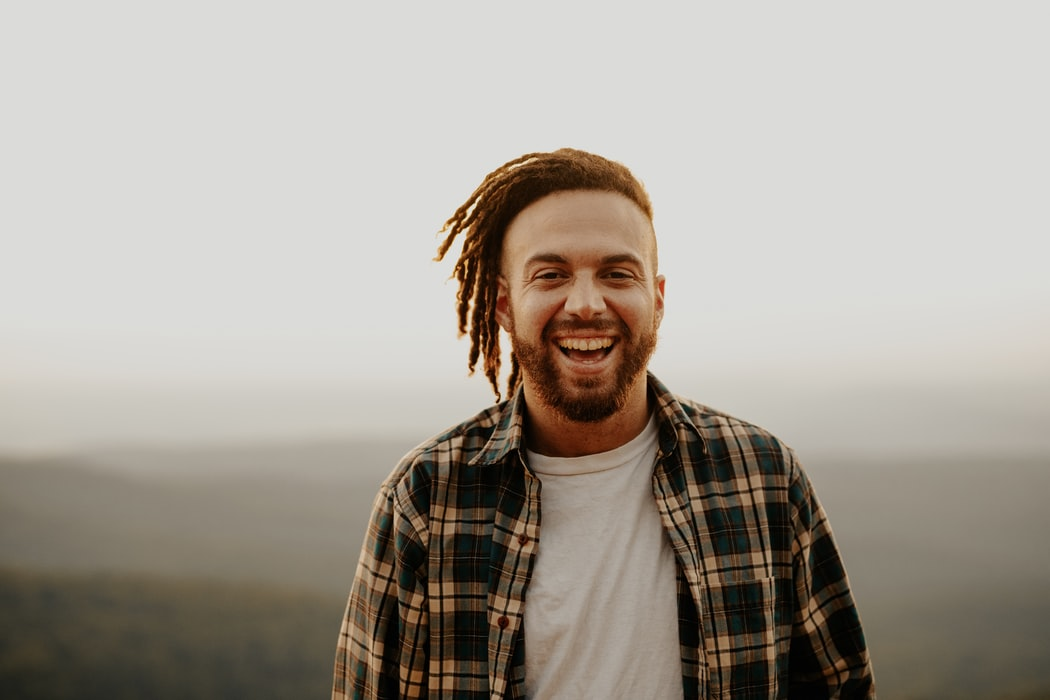beard: (497, 317, 669, 419)
squared: (336, 389, 878, 687)
